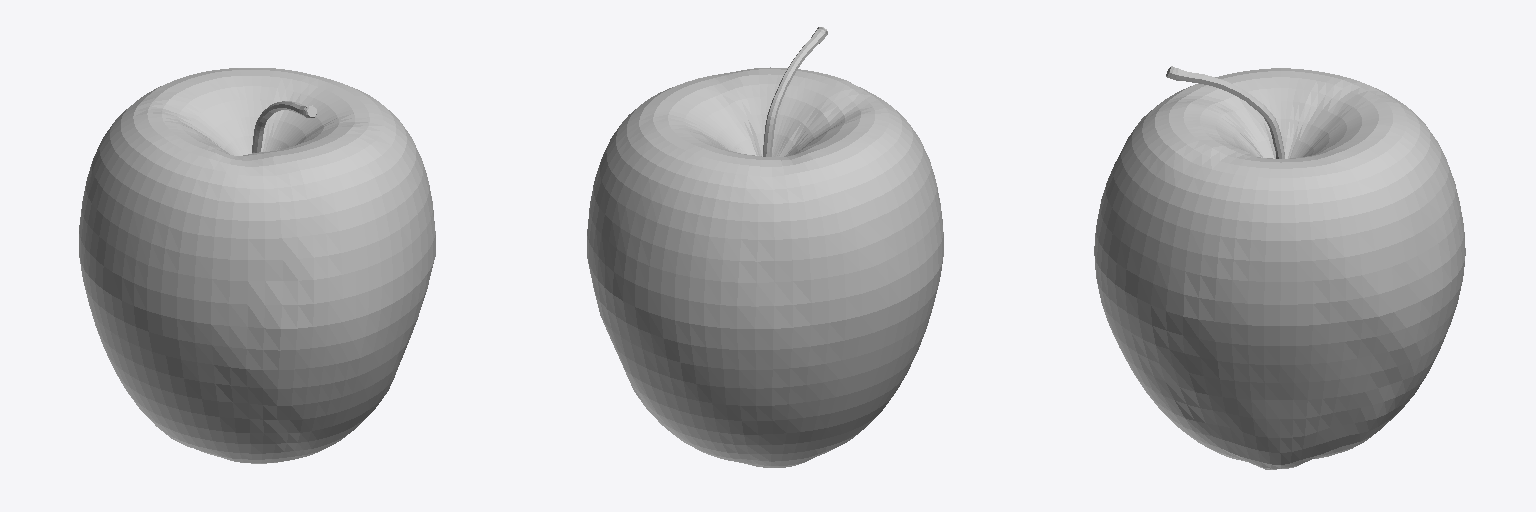
Rendered from apple.obj.
The picture shows the model from 3 angles: view 1: azimuth 30°, elevation 25°; view 2: azimuth 150°, elevation 25°; view 3: azimuth 270°, elevation 25°; orthographic projection.
Bounding box in the file's own units: 2.3 × 2.73 × 2.43.